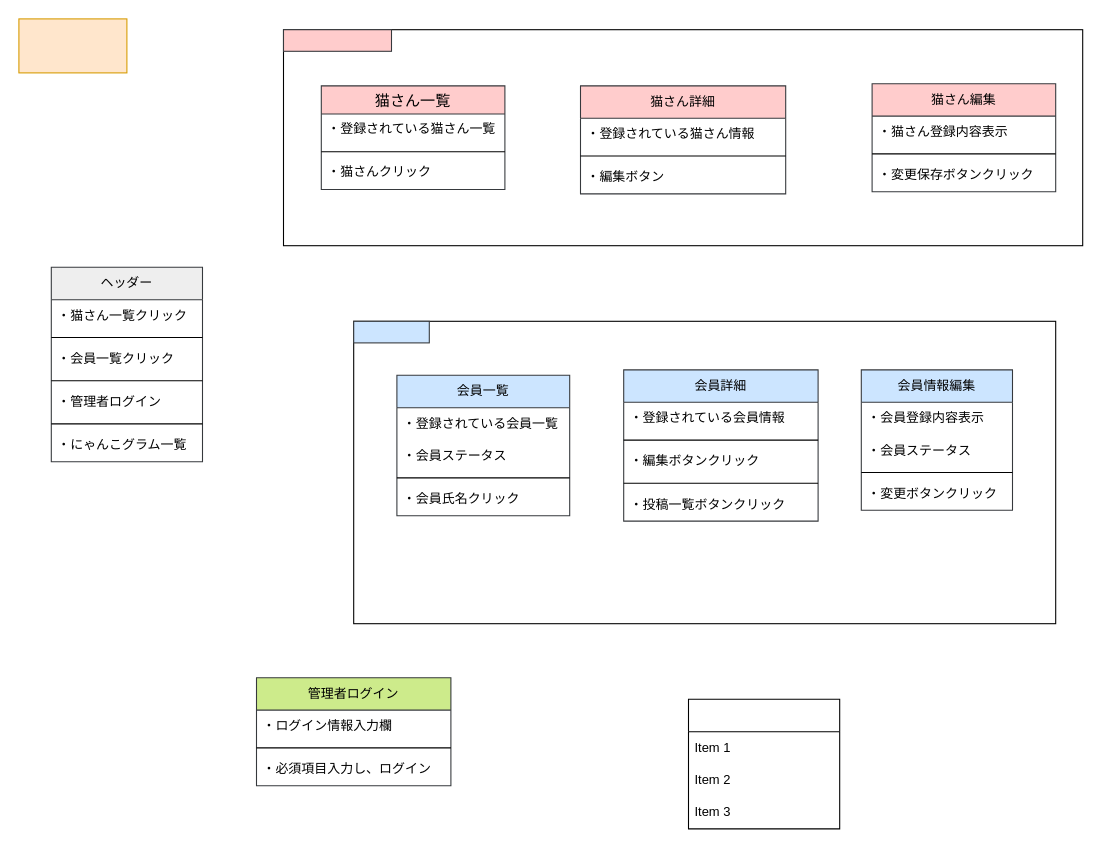
Some shapes in this 1102 by 848 pixel diagram are drawn without their labels. The centre of each missing label's shape, as x and y in pixels:
"会員実装" goes at [391,331].
"猫さん実装" goes at [337,40].
"管理者側" goes at [72,45].
